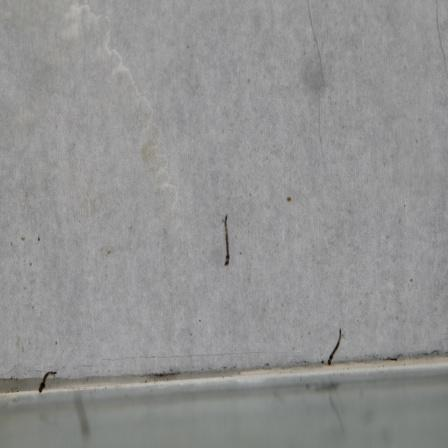Jentik-Nyamuk: (218, 212, 237, 272), (323, 325, 347, 363), (36, 367, 61, 397)
